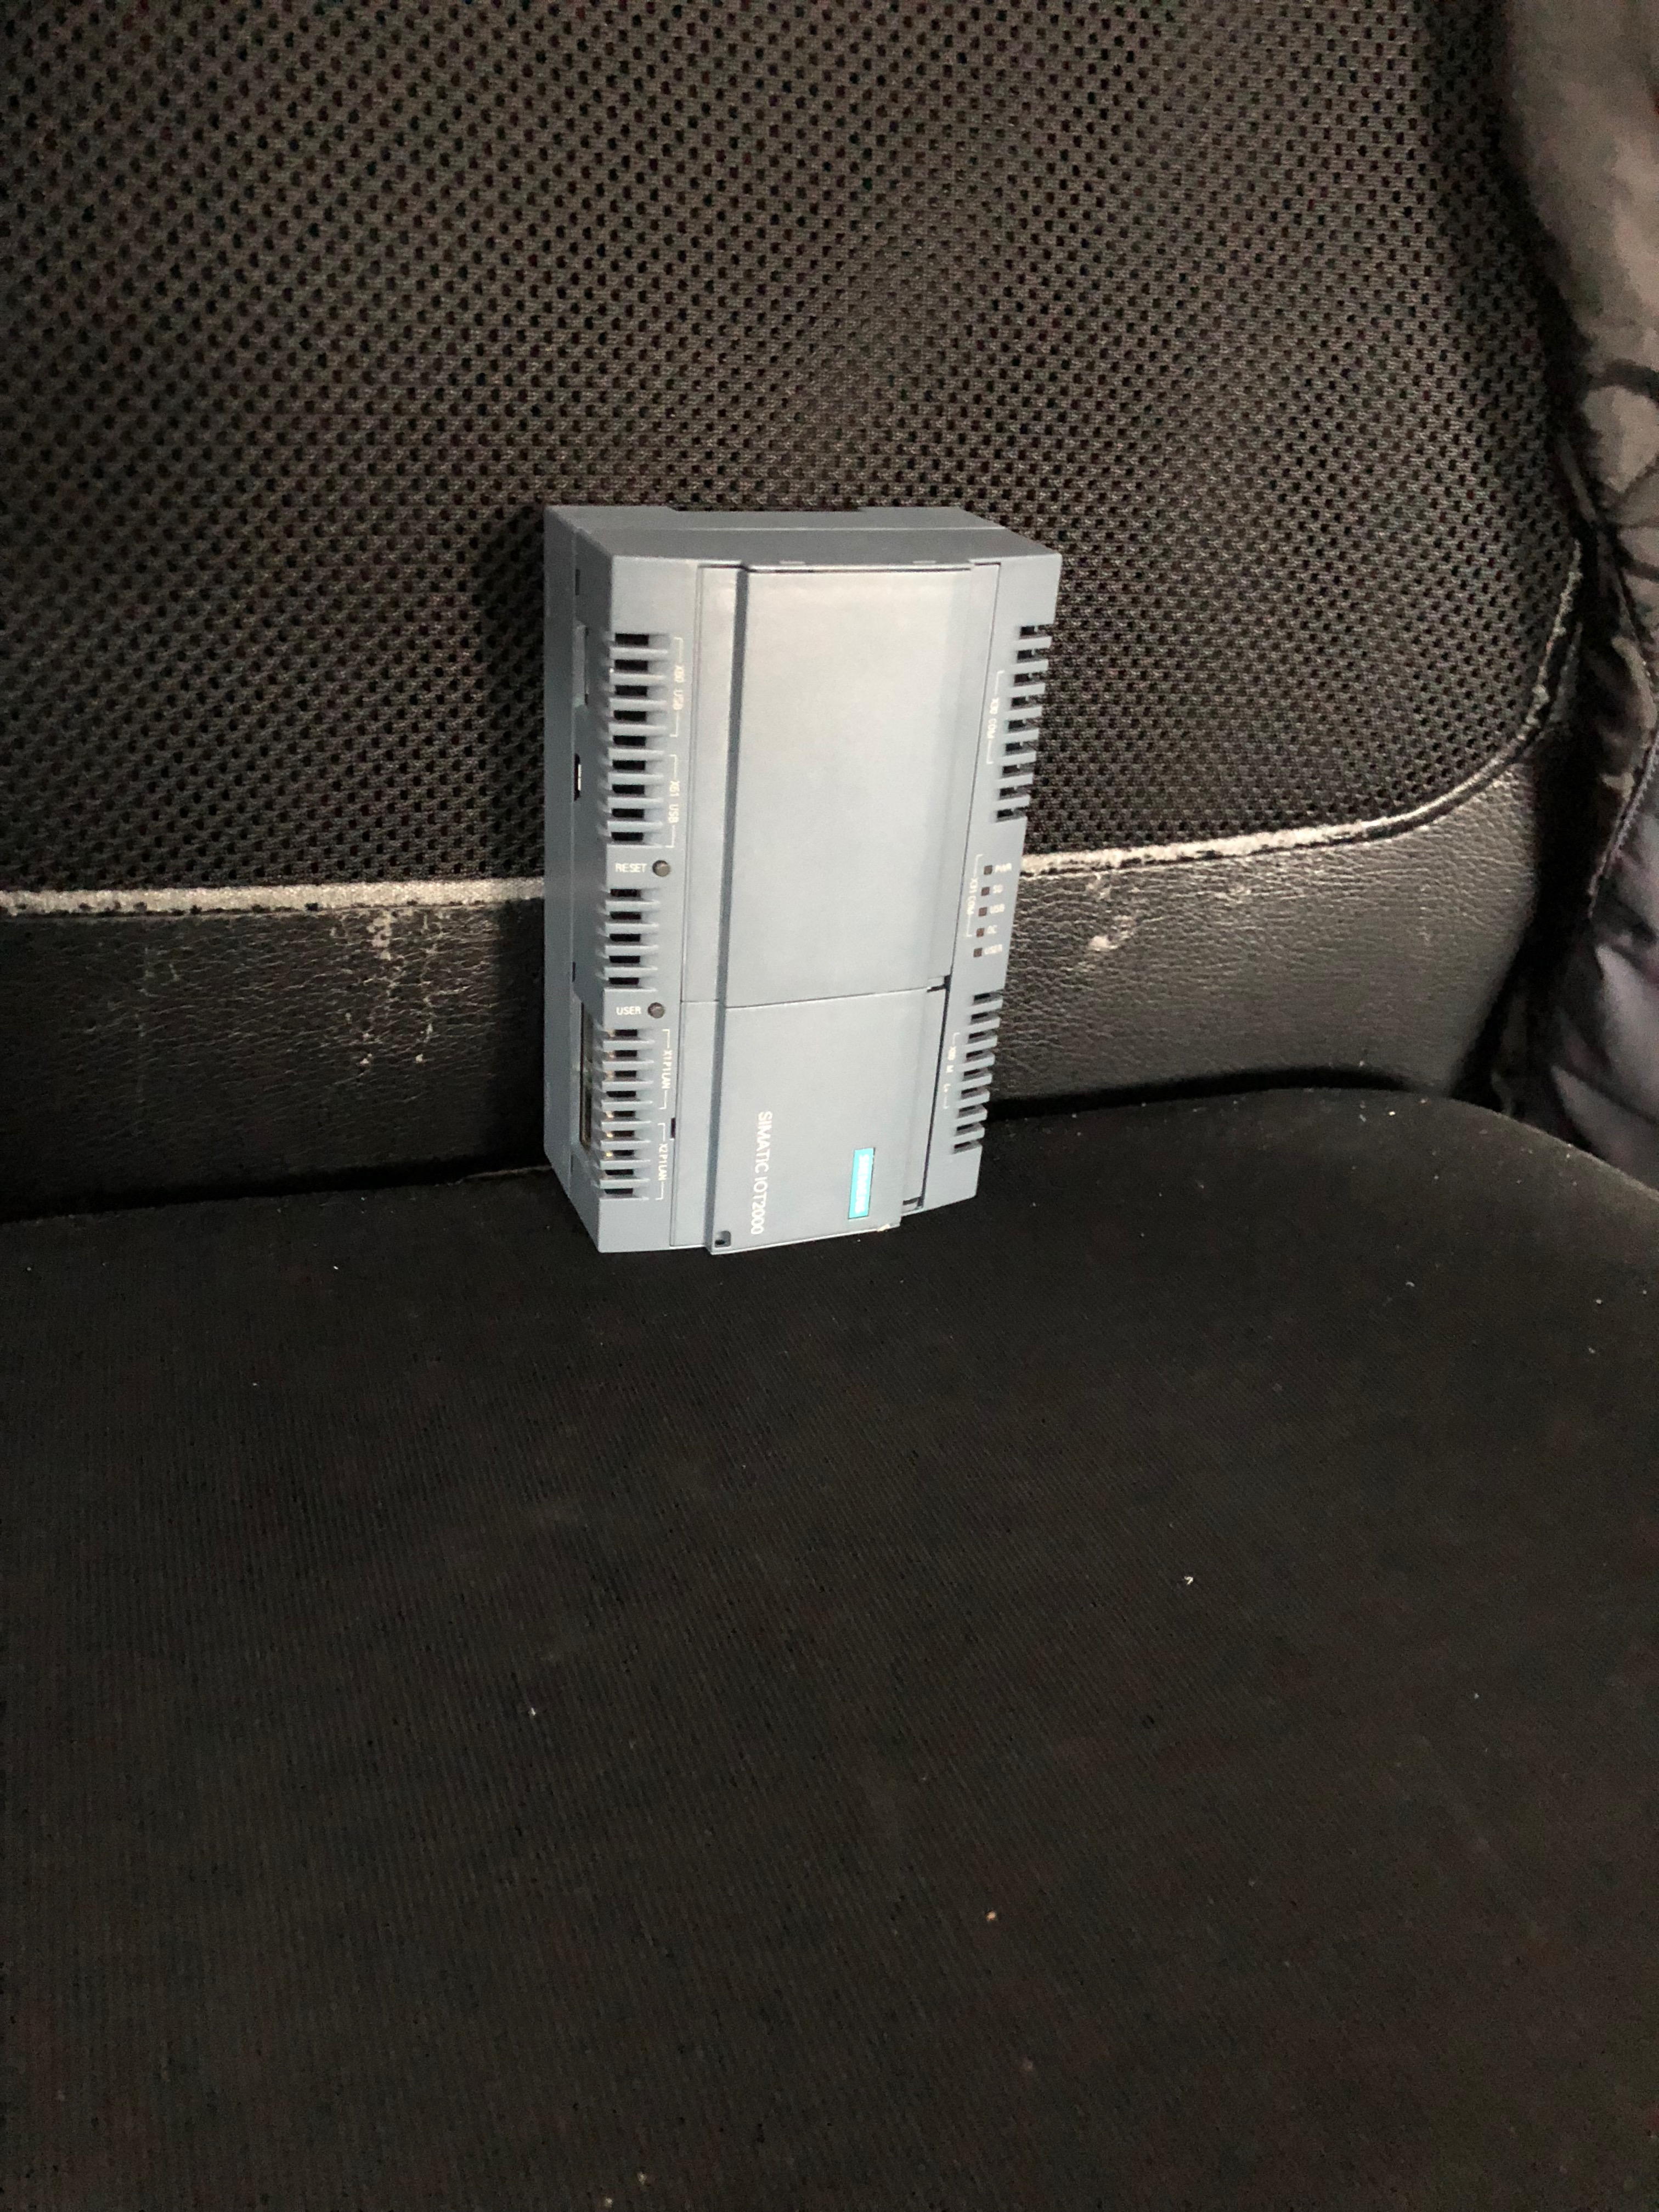device: (542, 505, 1061, 1256)
